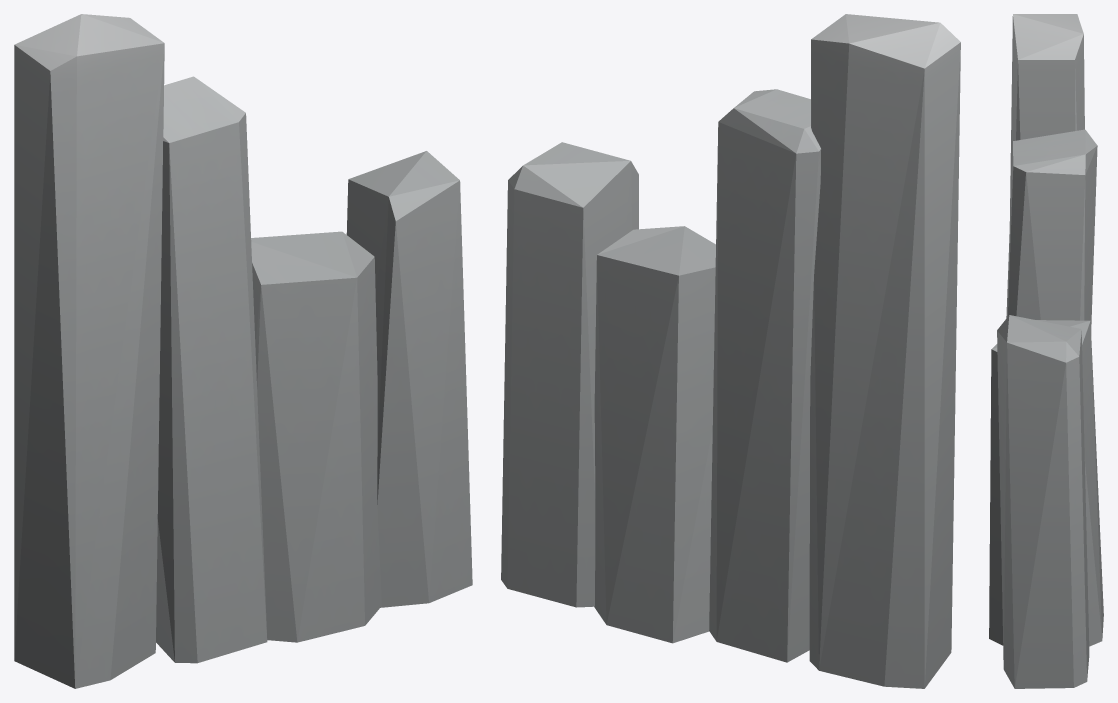
Rendered from rock_1.fbx.
The picture shows the model from 3 angles, left to right: view 1: azimuth 30°, elevation 25°; view 2: azimuth 150°, elevation 25°; view 3: azimuth 270°, elevation 25°; orthographic projection. The views are drawn at different scales.
Parts seen in each view (by area): view 1: rock_1; view 2: rock_1; view 3: rock_1.
Part boxes in pixels (bbox=[...]): rock_1: bbox=[14, 14, 472, 688]; rock_1: bbox=[501, 14, 960, 688]; rock_1: bbox=[989, 14, 1103, 688].
Size of the model in its own units: 3.5 by 5 by 1.
1 material, 1 textured.
